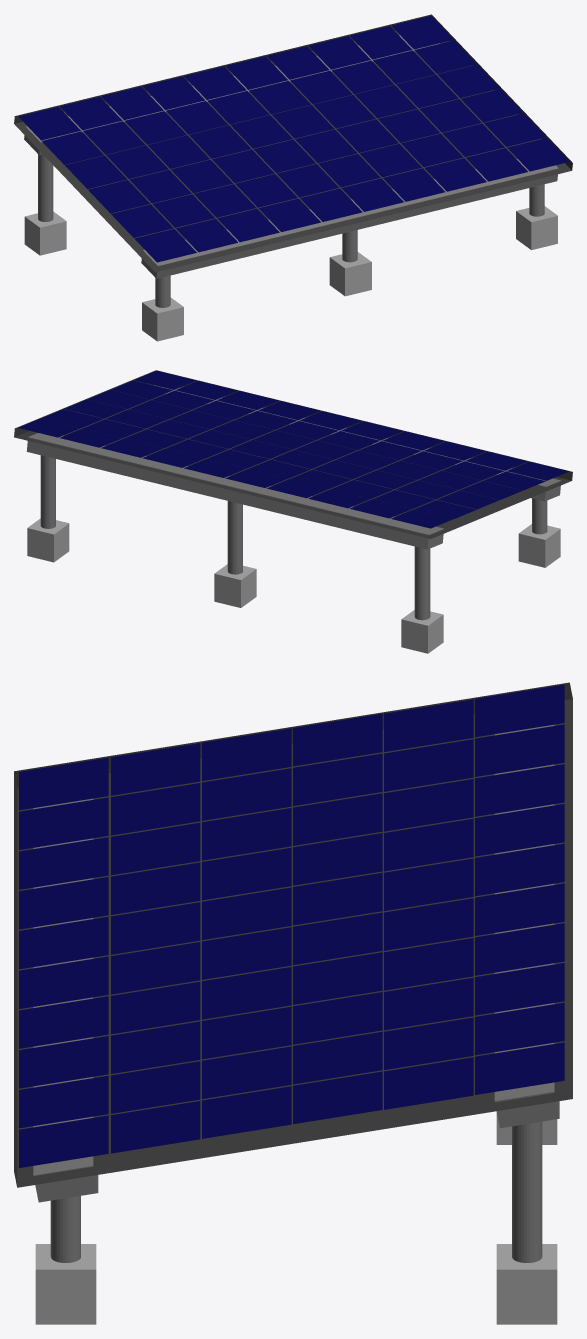
Rendered from sun-panel.glb.
The picture shows the model from 3 angles, top to bottom: view 1: azimuth 30°, elevation 25°; view 2: azimuth 150°, elevation 25°; view 3: azimuth 270°, elevation 25°; orthographic projection. The views are drawn at different scales.
Parts seen in each view (by area): view 1: 円柱.007; view 2: 円柱.007; view 3: 円柱.007.
Boxes of the visible parts, bbox=[...] form: 円柱.007: bbox=[14, 14, 572, 341]; 円柱.007: bbox=[14, 370, 572, 653]; 円柱.007: bbox=[14, 682, 572, 1324].
Bounding box in the file's own units: 3.12 × 0.9126 × 1.84.
